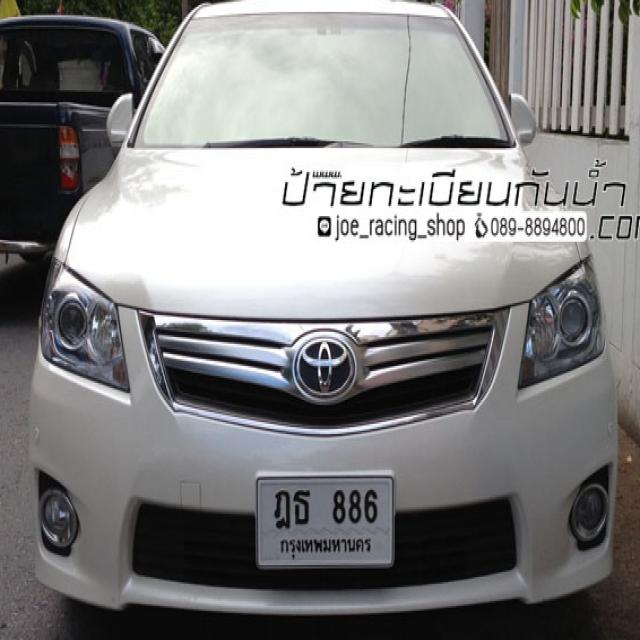license_plate: (253, 471, 398, 573)
